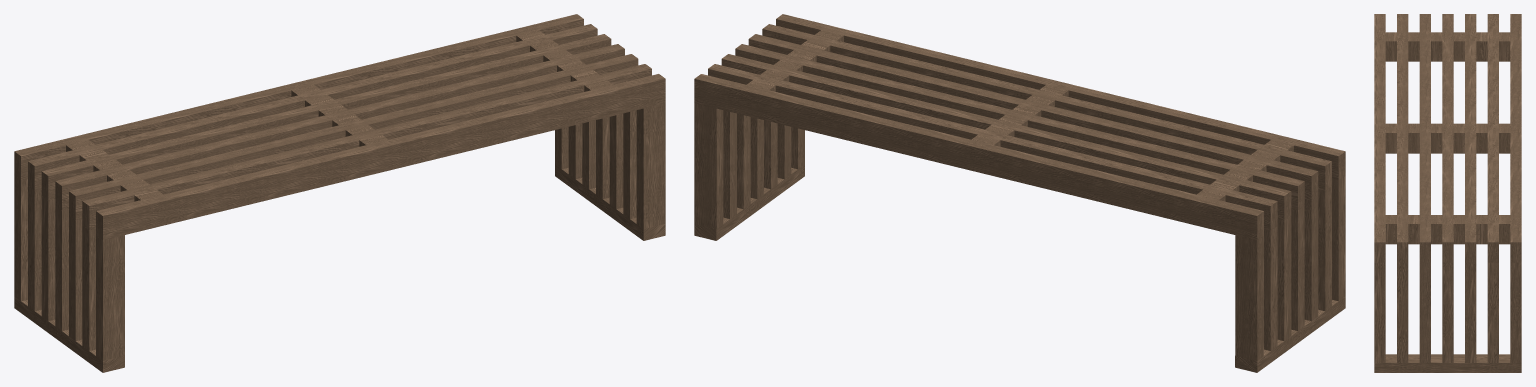
The model's file is bank-modern.glb.
3 views of the same model, side by side, from view 1: azimuth 30°, elevation 25°; view 2: azimuth 150°, elevation 25°; view 3: azimuth 270°, elevation 25° (orthographic). The views are drawn at different scales.
Visible parts, largest first — view 1: Cube.012, Cube.002, Cube.006, Cube.008, Cube.016, Cube.018, Cube.020, bench, Cube.001; view 2: Cube.020, Cube.018, Cube.016, Cube.008, Cube.006, Cube.002, Cube.012, Cube.001, bench; view 3: Cube.002, Cube.006, Cube.008, Cube.012, Cube.016, Cube.018, Cube.020, bench, Cube.003, Cube.004, Cube.005, Cube.007 (+14 smaller).
Part boxes in pixels (left/top/right/bottom): Cube.012: left=96, top=74, right=665, bottom=360; Cube.002: left=82, top=64, right=651, bottom=350; Cube.006: left=69, top=54, right=638, bottom=340; Cube.008: left=55, top=44, right=624, bottom=330; Cube.016: left=41, top=34, right=611, bottom=321; Cube.018: left=28, top=24, right=597, bottom=310; Cube.020: left=14, top=14, right=583, bottom=301; bench: left=555, top=165, right=665, bottom=240; Cube.001: left=14, top=297, right=124, bottom=372; Cube.020: left=694, top=74, right=1263, bottom=360; Cube.018: left=708, top=64, right=1277, bottom=350; Cube.016: left=721, top=54, right=1291, bottom=340; Cube.008: left=735, top=44, right=1304, bottom=330; Cube.006: left=748, top=34, right=1318, bottom=321; Cube.002: left=762, top=24, right=1331, bottom=310; Cube.012: left=776, top=14, right=1345, bottom=301; Cube.001: left=1235, top=296, right=1345, bottom=372; bench: left=694, top=164, right=804, bottom=240; Cube.002: left=1397, top=14, right=1408, bottom=362; Cube.006: left=1419, top=14, right=1430, bottom=362; Cube.008: left=1442, top=14, right=1453, bottom=362; Cube.012: left=1374, top=14, right=1385, bottom=362; Cube.016: left=1465, top=14, right=1476, bottom=362; Cube.018: left=1487, top=14, right=1498, bottom=362; Cube.020: left=1510, top=14, right=1521, bottom=362; bench: left=1374, top=354, right=1521, bottom=372; Cube.003: left=1408, top=123, right=1419, bottom=152; Cube.004: left=1408, top=32, right=1419, bottom=61; Cube.005: left=1408, top=215, right=1419, bottom=244; Cube.007: left=1431, top=32, right=1442, bottom=61.
Bounding box in the file's own units: 1.5 × 0.3996 × 0.4084.
Materials: 2 (2 with a texture image).
